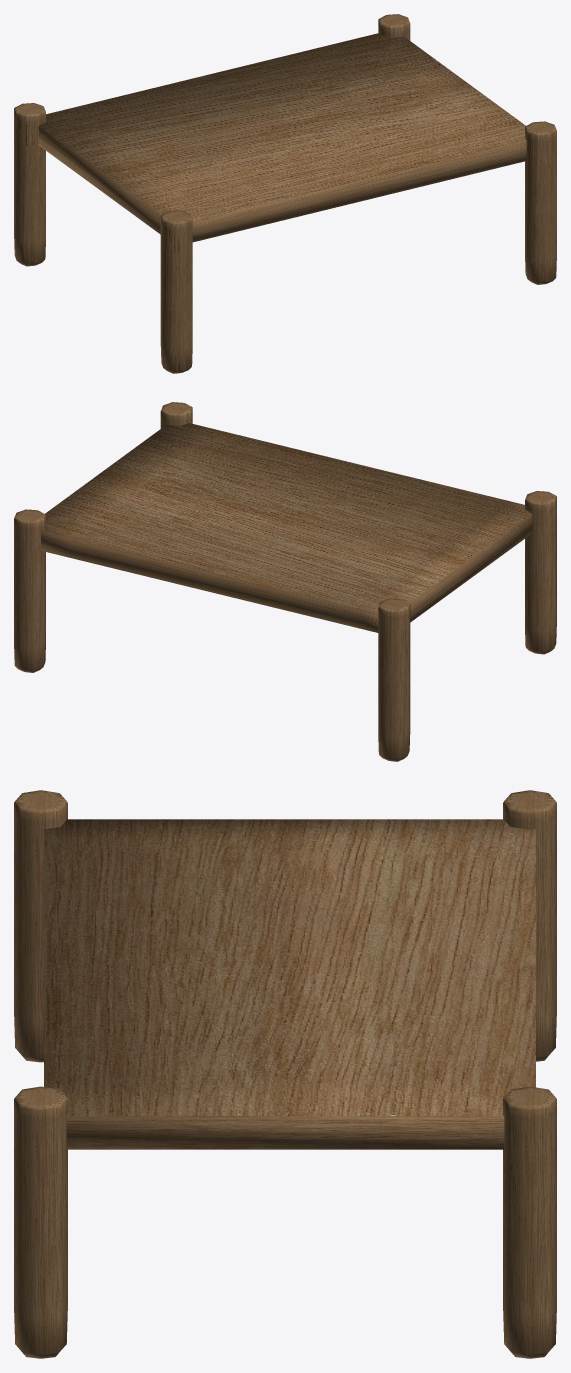
The model's file is tavolino.fbx.
3 views of the same model, one above another, from view 1: azimuth 30°, elevation 25°; view 2: azimuth 150°, elevation 25°; view 3: azimuth 270°, elevation 25° (orthographic). The views are drawn at different scales.
Visible parts, largest first — view 1: tavolino_piano, p4, p2, p3, p1; view 2: tavolino_piano, p3, p1, p4, p2; view 3: tavolino_piano, p1, p2, p4, p3.
Boxes of the visible parts, box(x1,y1,x2,y2) form: tavolino_piano: box(38, 33, 526, 242); p4: box(160, 210, 192, 373); p2: box(525, 121, 556, 284); p3: box(14, 103, 45, 266); p1: box(378, 14, 410, 40); tavolino_piano: box(41, 423, 532, 632); p3: box(378, 598, 410, 761); p1: box(14, 509, 45, 672); p4: box(525, 491, 556, 654); p2: box(160, 402, 192, 428); tavolino_piano: box(44, 819, 535, 1149); p1: box(503, 1086, 556, 1358); p2: box(14, 1086, 67, 1358); p4: box(14, 790, 67, 1062); p3: box(503, 790, 556, 1061).
Bounding box in the file's own units: 53.7 × 20 × 38.61.
